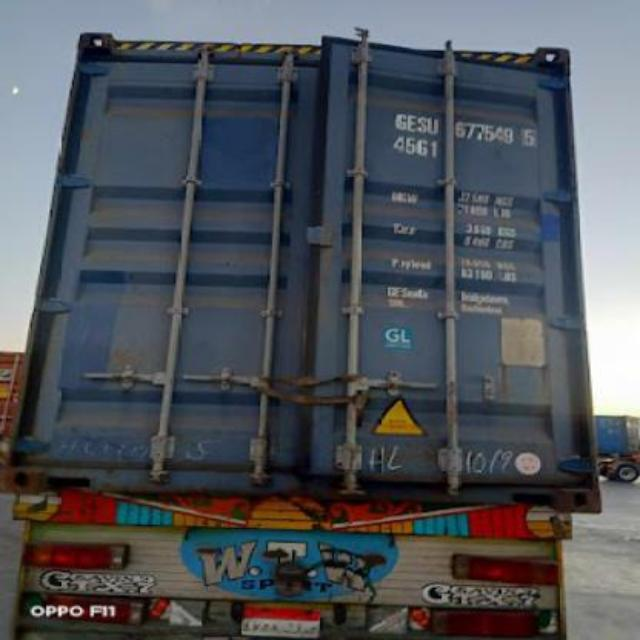4: (494, 118, 504, 146)
5: (520, 120, 540, 150), (482, 118, 494, 144)
6: (452, 115, 466, 141)
7: (472, 114, 484, 142), (464, 115, 474, 141)
9: (502, 119, 514, 145)
E: (406, 108, 416, 134)
G: (394, 106, 406, 132)
S: (418, 105, 428, 135)
U: (426, 106, 439, 134)
